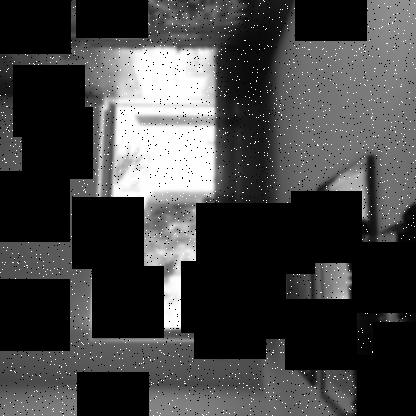Porte: (89, 52, 244, 362)
